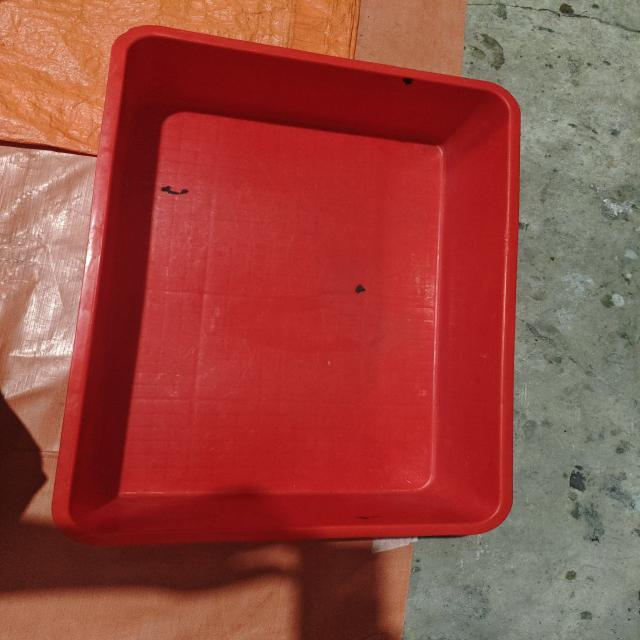red plastic box: (51, 24, 521, 546)
